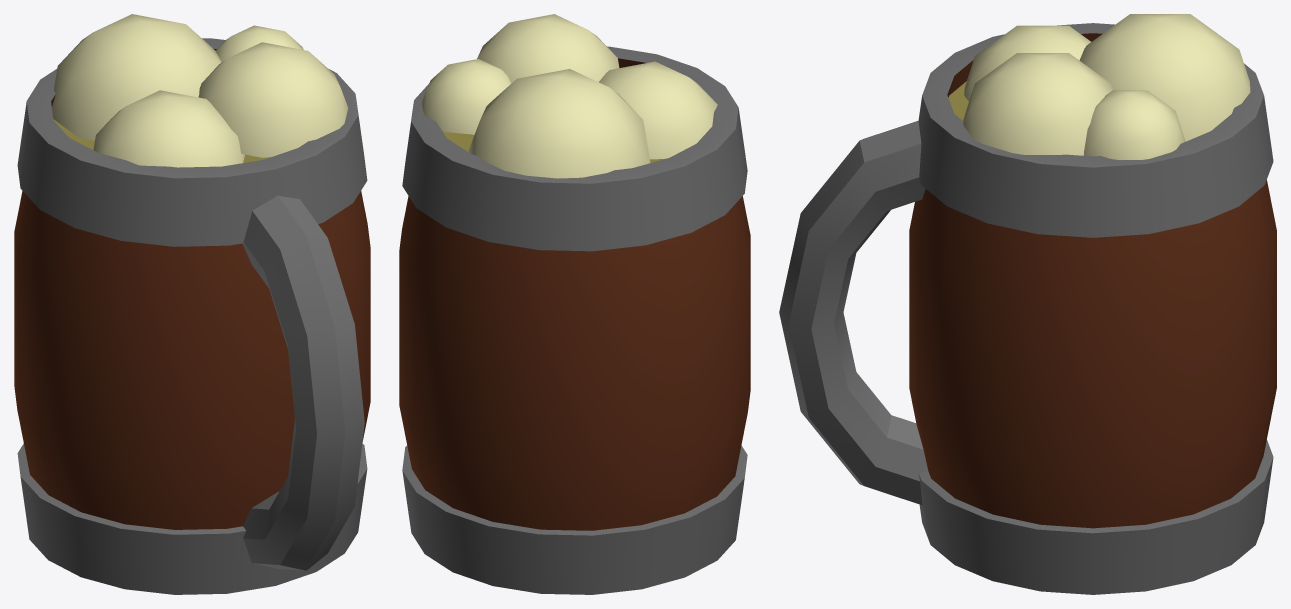
The model's file is tankardFull.fbx.
The picture shows the model from 3 angles, left to right: view 1: azimuth 30°, elevation 25°; view 2: azimuth 150°, elevation 25°; view 3: azimuth 270°, elevation 25°; orthographic projection. The views are drawn at different scales.
Visible parts, largest first — view 1: Tankard - Full; view 2: Tankard - Full; view 3: Tankard - Full.
Part boxes in pixels (bbox=[...]): Tankard - Full: bbox=[14, 14, 370, 594]; Tankard - Full: bbox=[399, 14, 750, 594]; Tankard - Full: bbox=[779, 14, 1276, 594].
Size of the model in its own units: 14.68 by 19.88 by 21.9.
